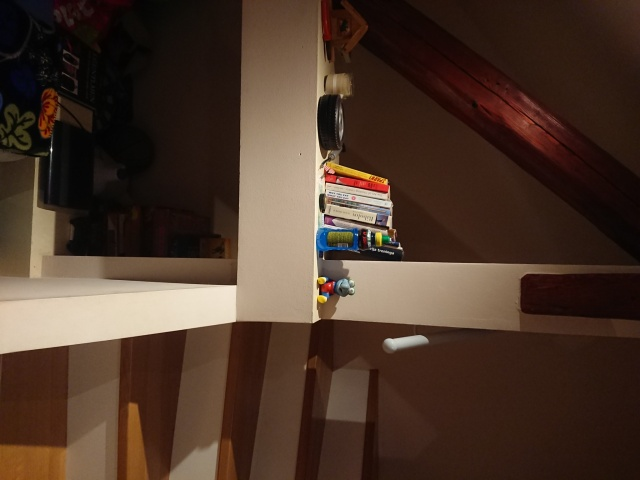Vindi Iso Sport Forest Strawberries 500mL: (314, 225, 390, 252)
